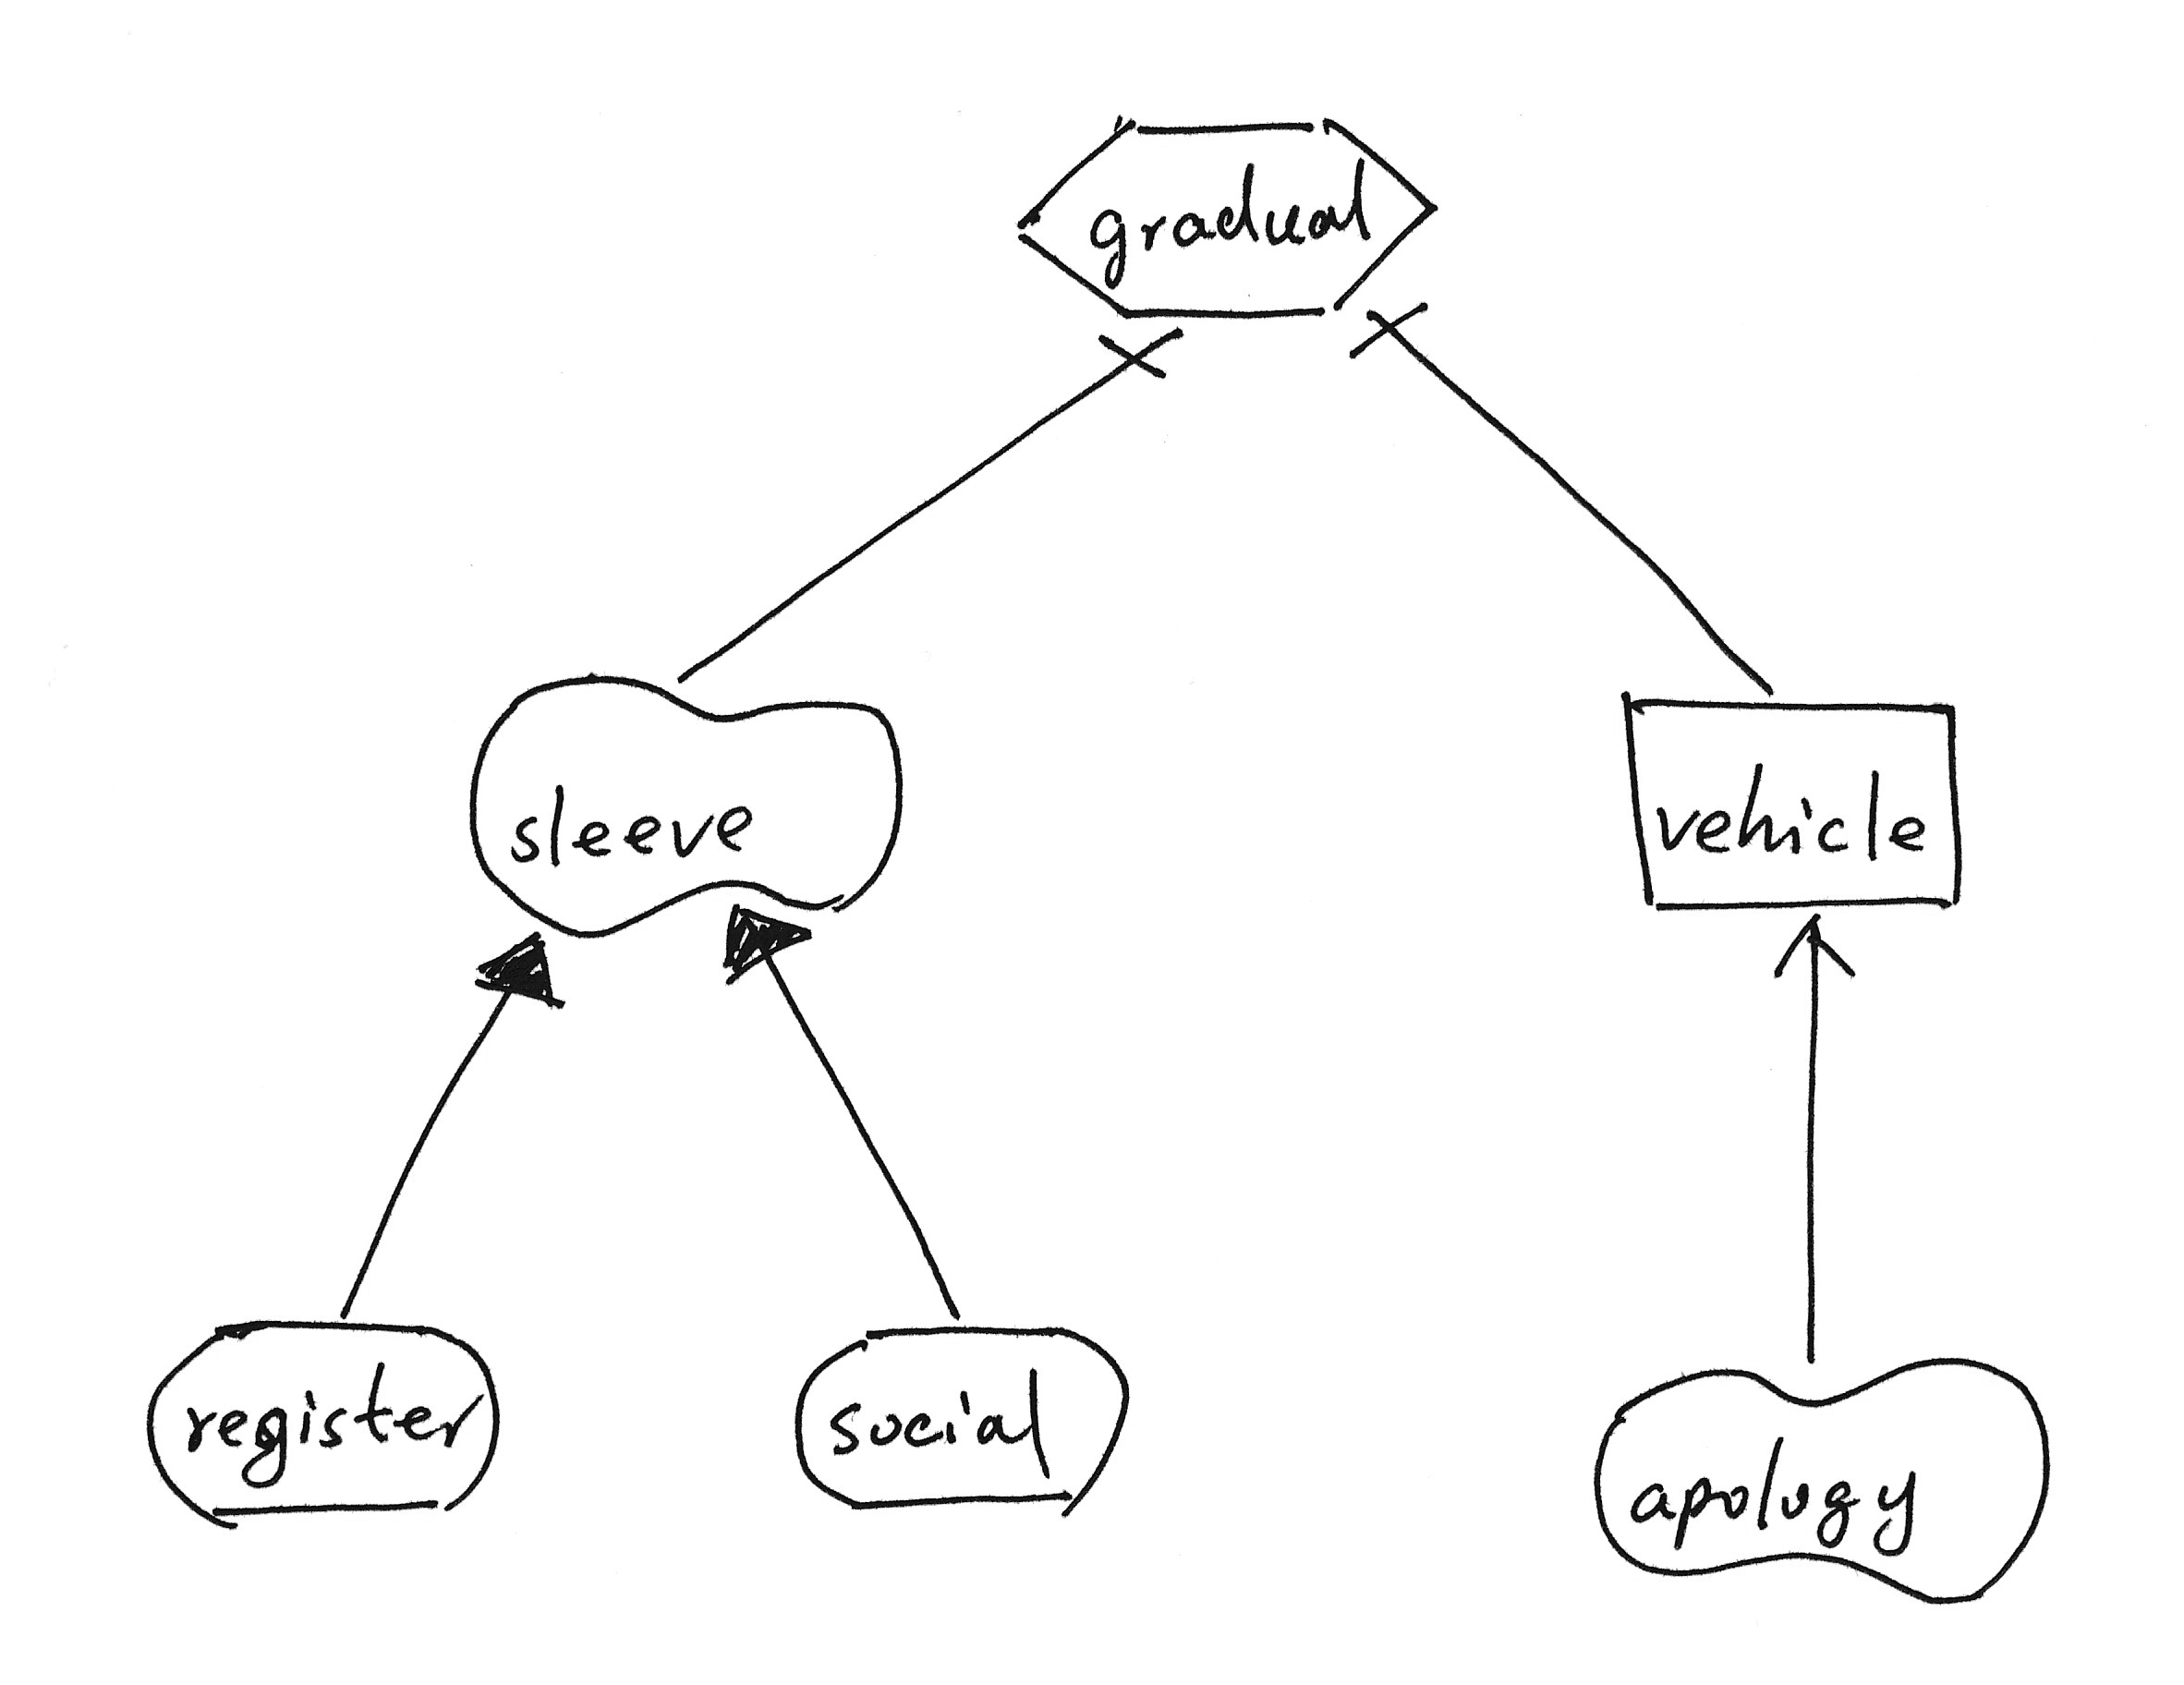and: (1088, 304, 1196, 402), (1340, 287, 1448, 366)
arrow: (1761, 901, 1862, 1007)
goal: (129, 1294, 520, 1538), (775, 1306, 1150, 1527)
or: (701, 883, 828, 1004), (455, 924, 581, 1021)
quality: (1568, 1331, 2083, 1625), (448, 651, 929, 959)
resource: (1600, 666, 1991, 931)
task: (988, 97, 1458, 345)
